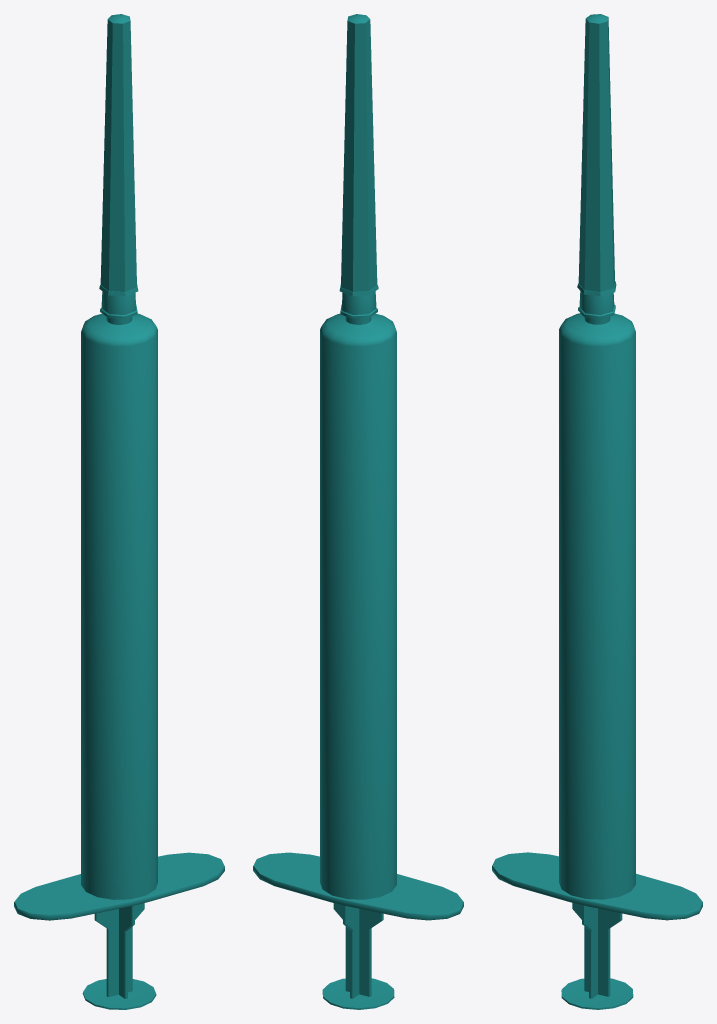
The model's file is syringe_1.FBX.
3 renders of one model, left to right at view 1: azimuth 30°, elevation 25°; view 2: azimuth 150°, elevation 25°; view 3: azimuth 330°, elevation 25°, orthographic.
Visible parts, largest first — view 1: syringe1_p1, syringe1_p3, syringe1_p2; view 2: syringe1_p1, syringe1_p3, syringe1_p2; view 3: syringe1_p1, syringe1_p3, syringe1_p2.
Part boxes in pixels (bbox=[...]): syringe1_p1: bbox=[14, 291, 224, 920]; syringe1_p3: bbox=[99, 14, 138, 296]; syringe1_p2: bbox=[82, 903, 156, 1009]; syringe1_p1: bbox=[253, 291, 463, 920]; syringe1_p3: bbox=[339, 14, 378, 296]; syringe1_p2: bbox=[322, 903, 394, 1009]; syringe1_p1: bbox=[492, 291, 702, 920]; syringe1_p3: bbox=[577, 14, 616, 296]; syringe1_p2: bbox=[561, 903, 633, 1009].
Size of the model in its own units: 2.89 by 13.27 by 1.
